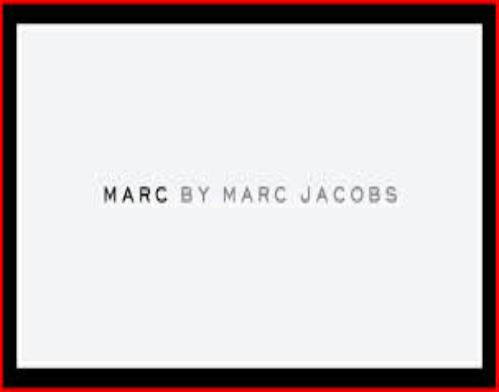MARC-JACOBS: (80, 168, 461, 230)
